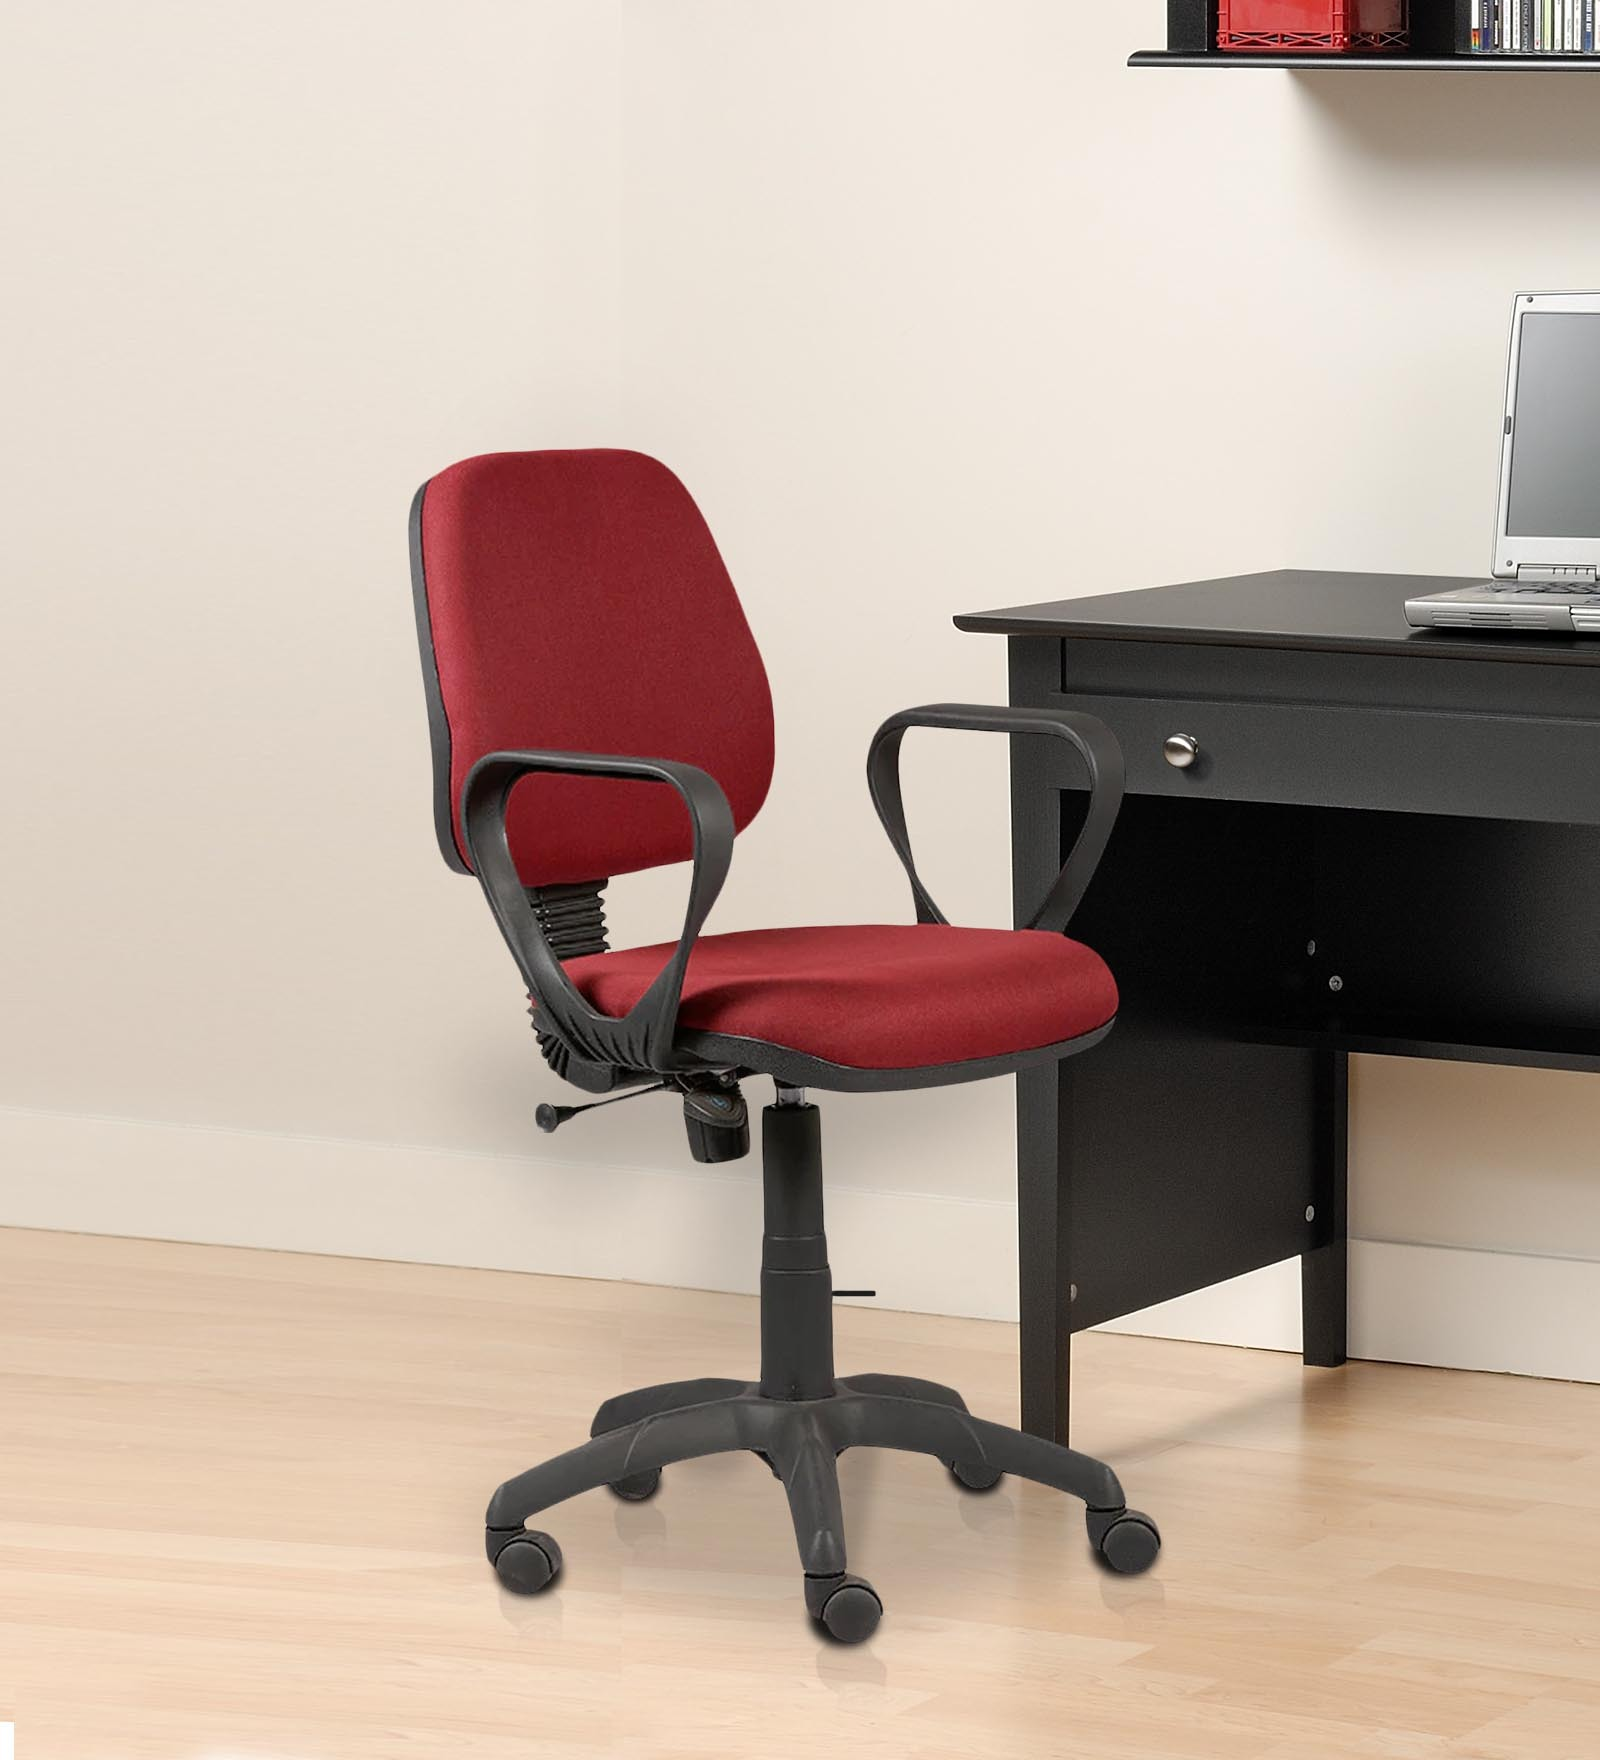Tiago Medium Back Ergonomic Chair in Maroon Colour by Parin: (340, 422, 1267, 1657)
